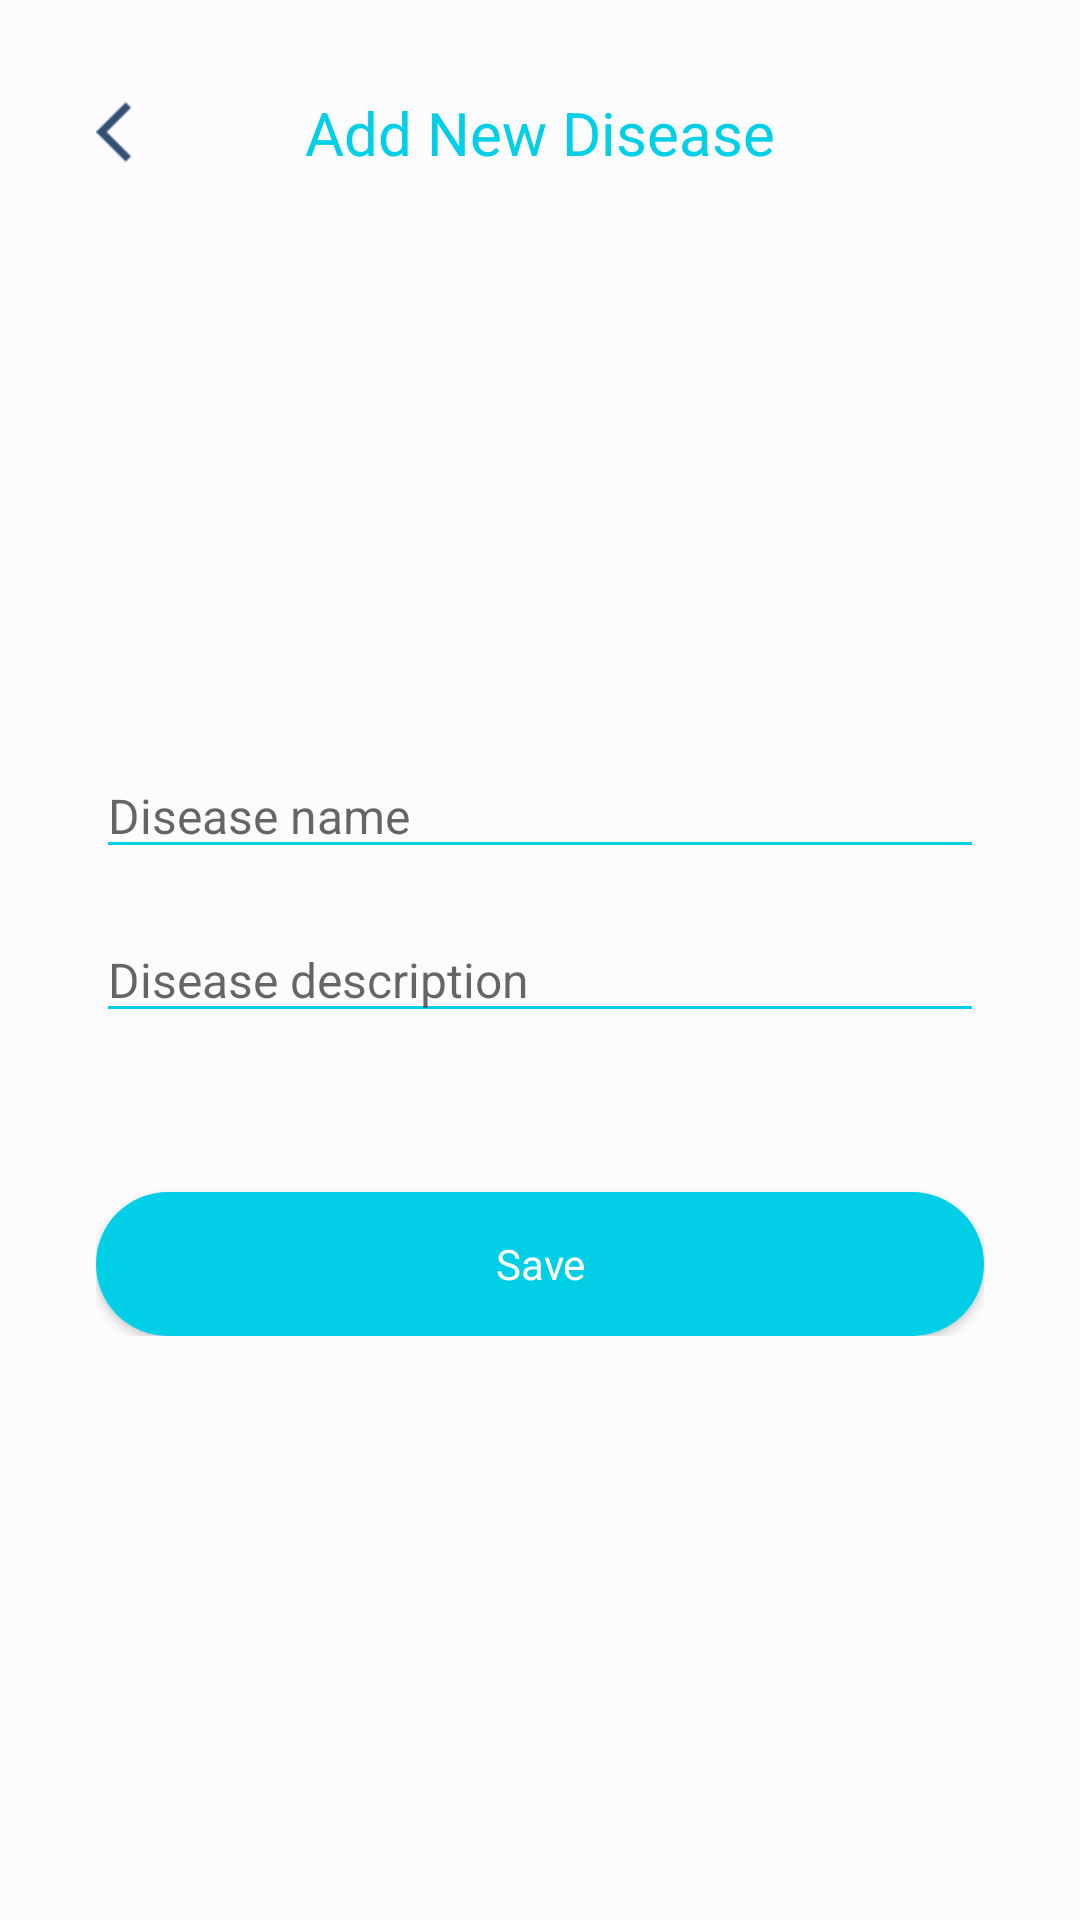

Where icons sit on this 1080 × 1920 app screen, as (x1,y1,x2,y2):
back: (96,102,131,162)
